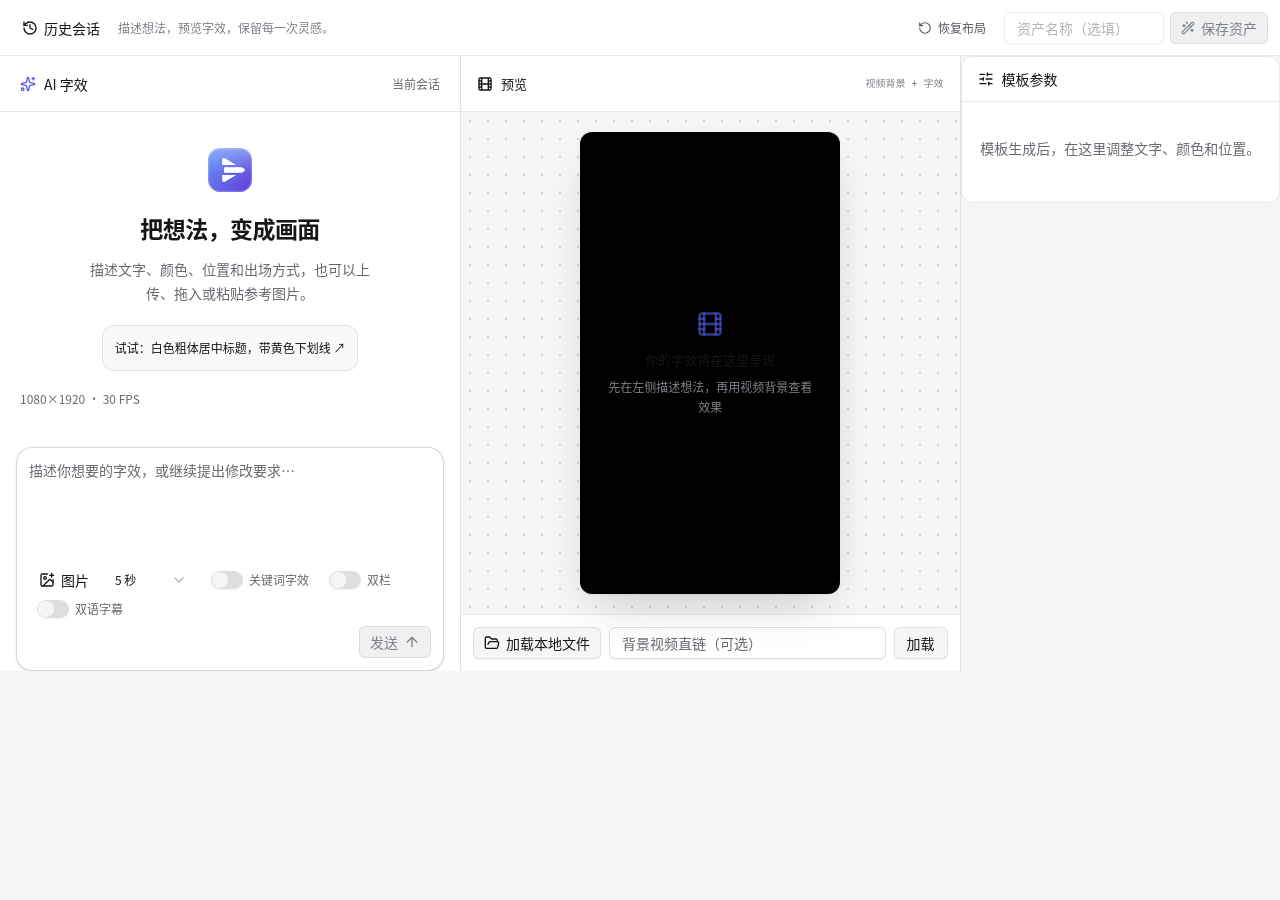
Test case: 打开关键词字效、双栏与双语字幕后首次请求携带这三个选择
Click the switch named "关键词字效" next to "关键词字效" at coordinates (227, 580), box [211,571,243,589]
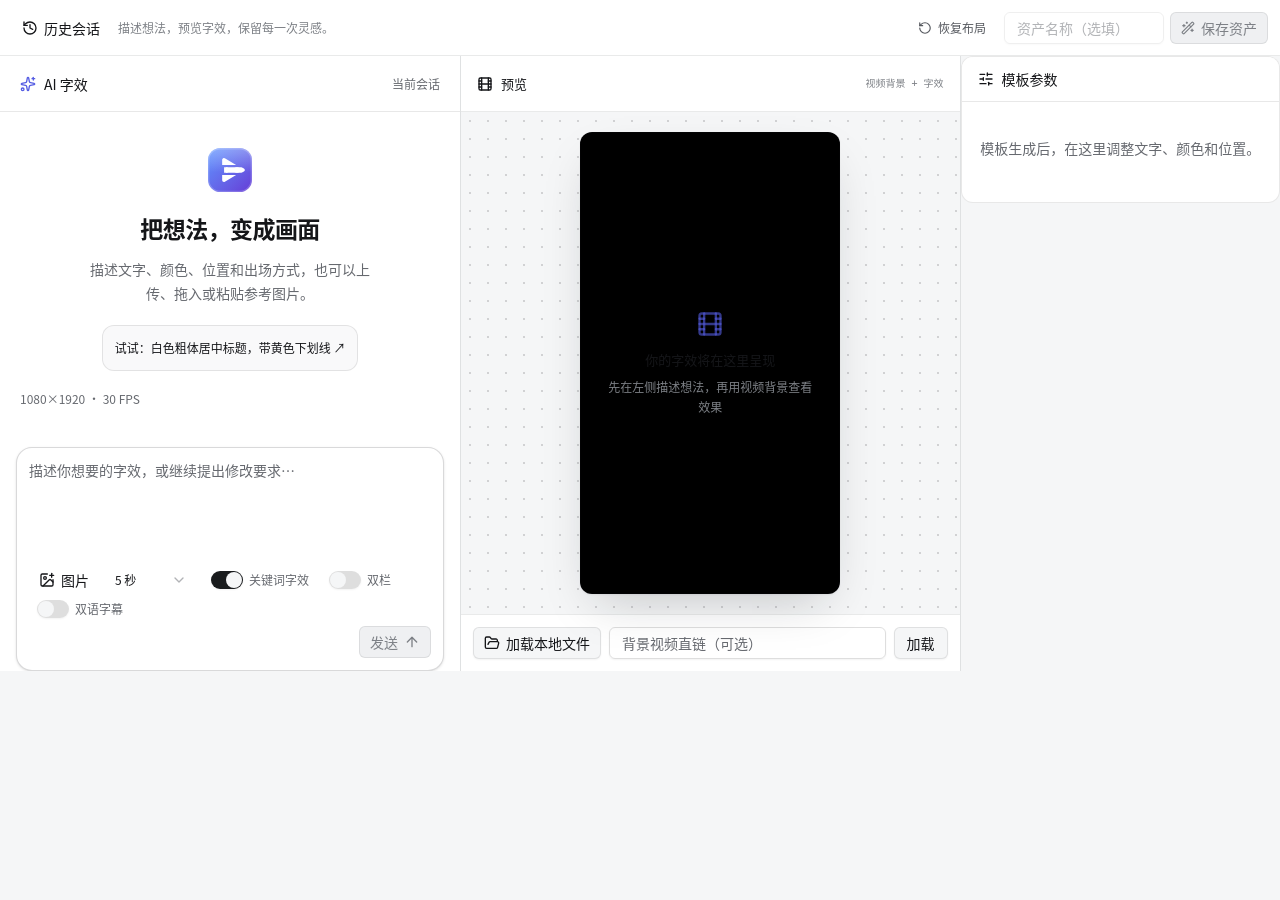
Click the switch named "双栏" next to "双栏" at coordinates (345, 580), box [329,571,361,589]
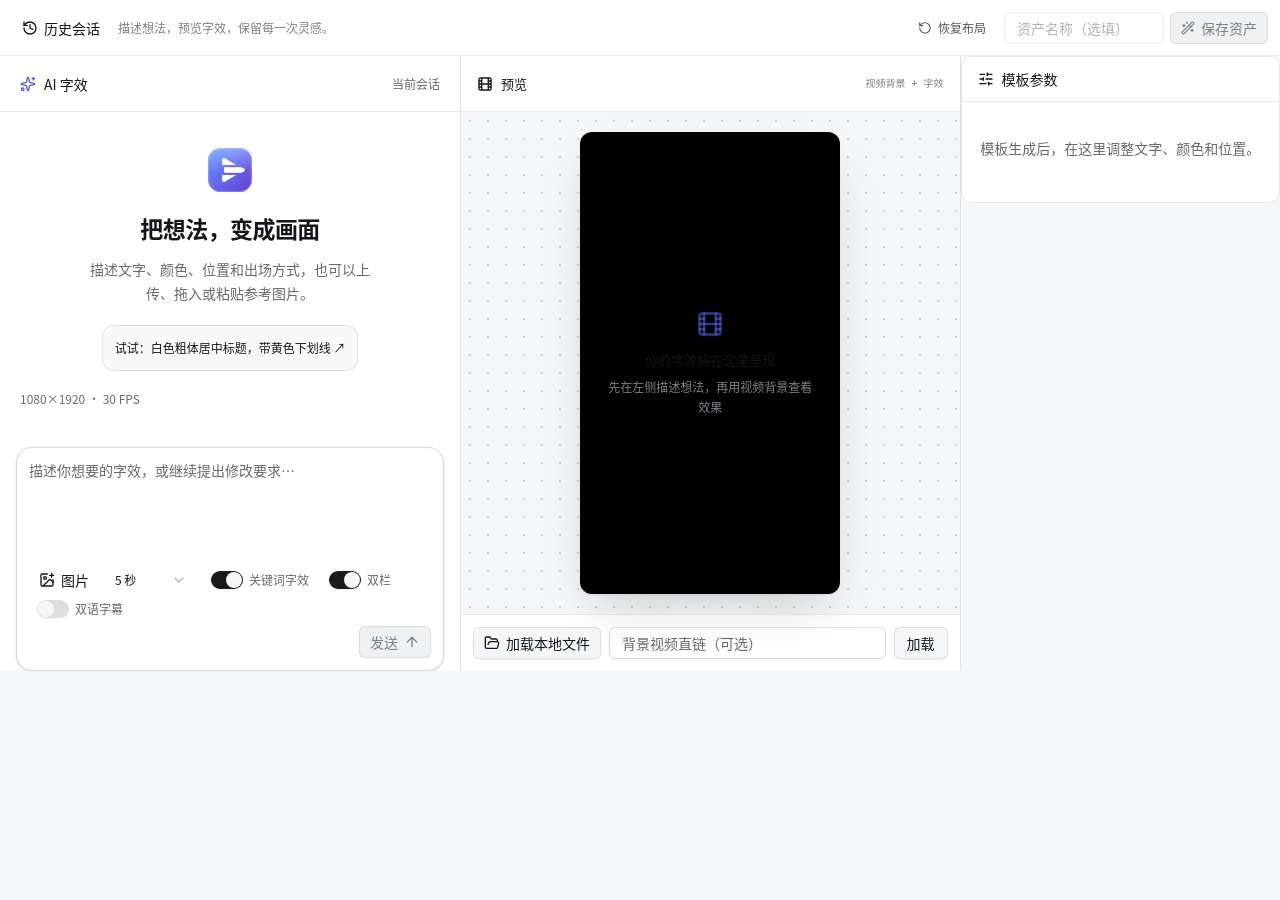
Click the switch named "双语字幕" next to "双语字幕" at coordinates (53, 609), box [37,600,69,618]
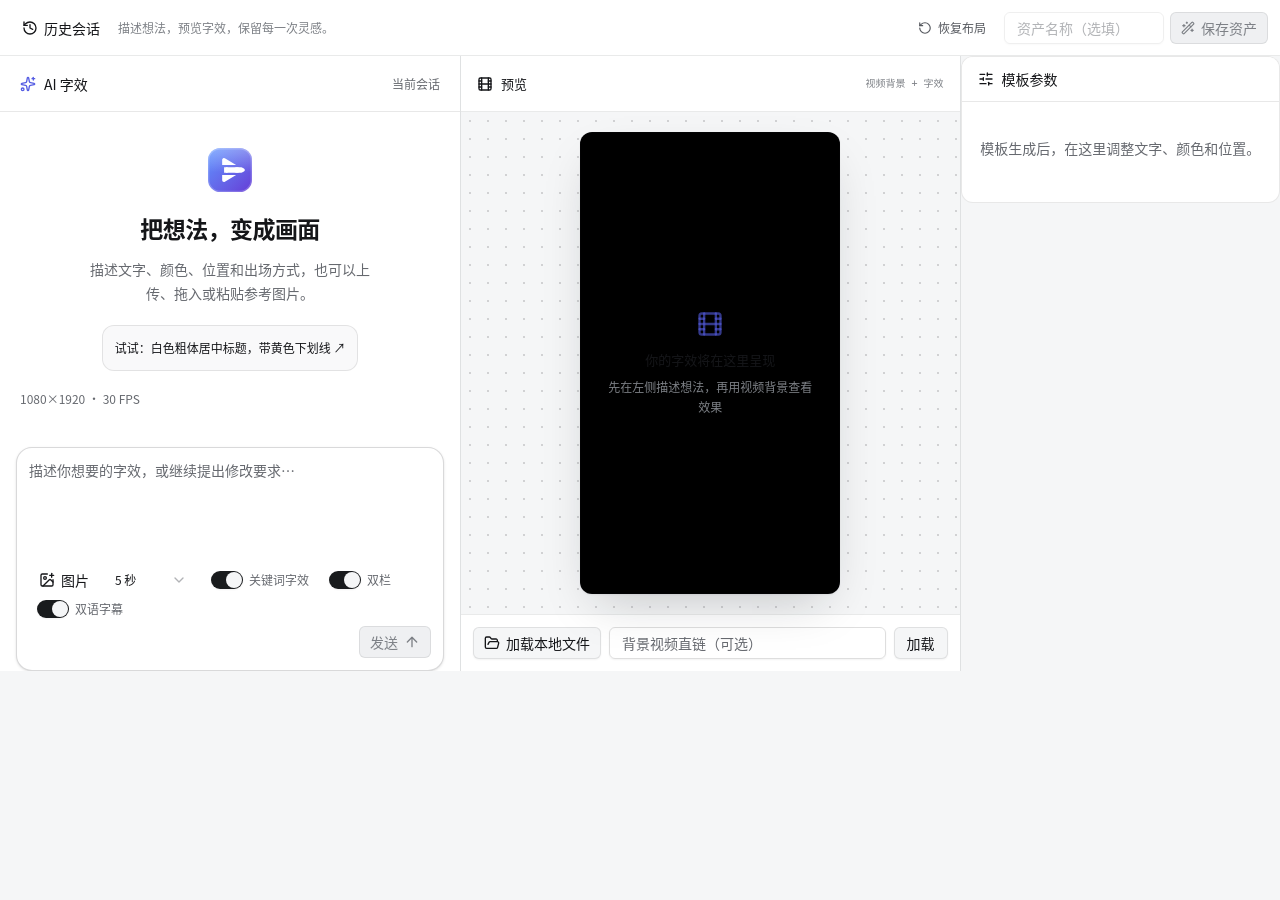
Type "生成标题" into the text box named "字效描述" at coordinates (230, 508), box [29,460,431,556]
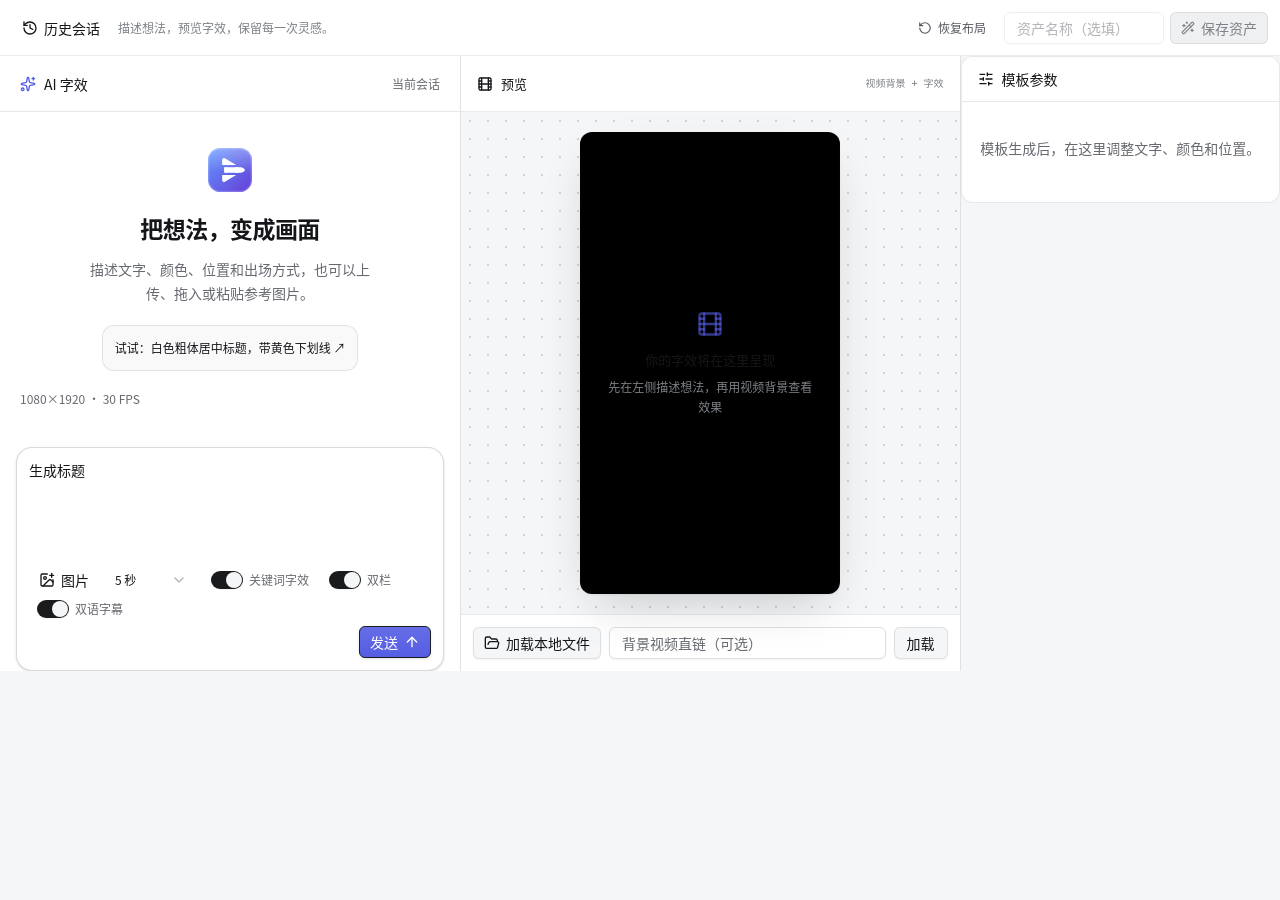
Click the button "发送" at coordinates (395, 642), box [359,626,431,658]
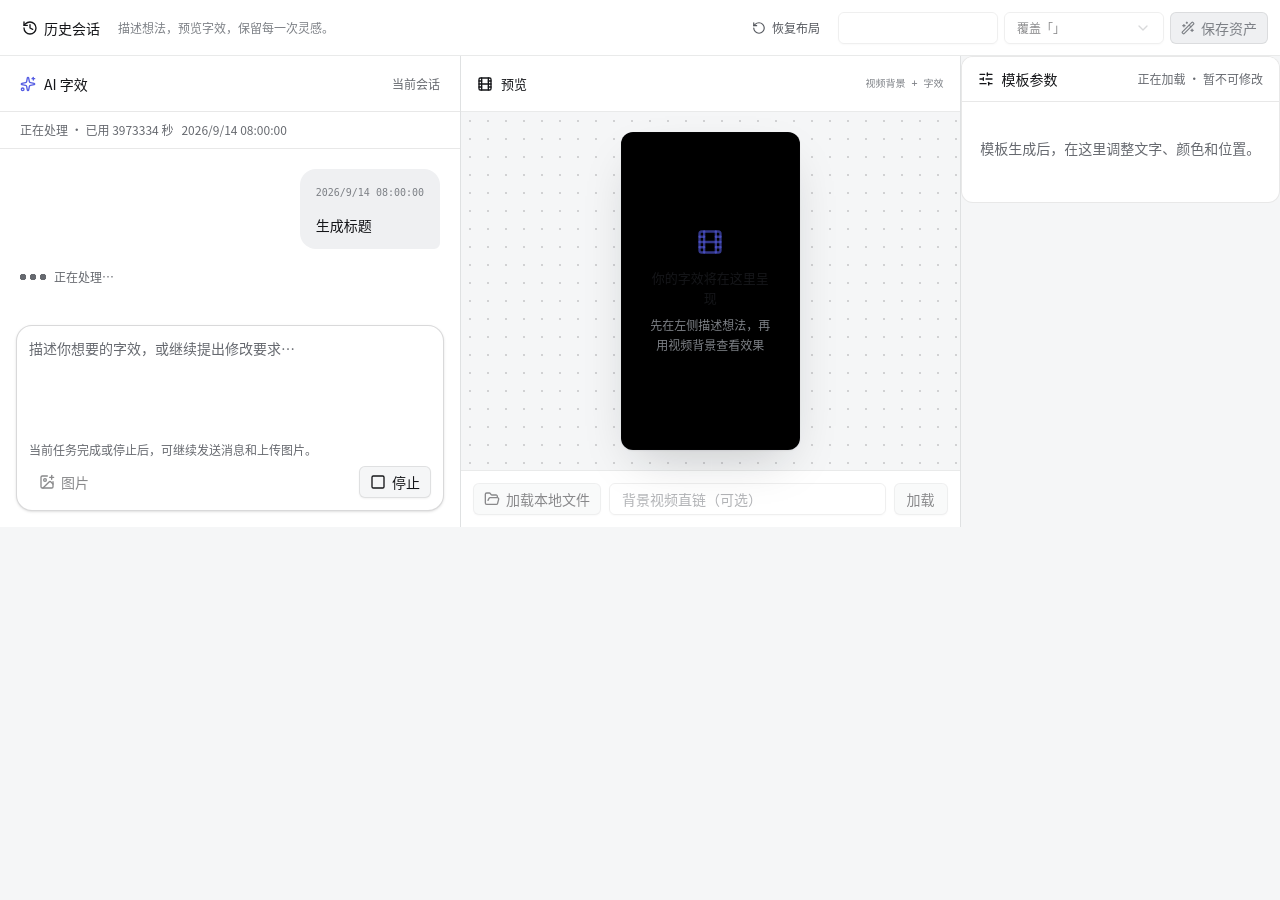
Now no switches are shown
